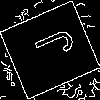J: (24, 25, 76, 67)
